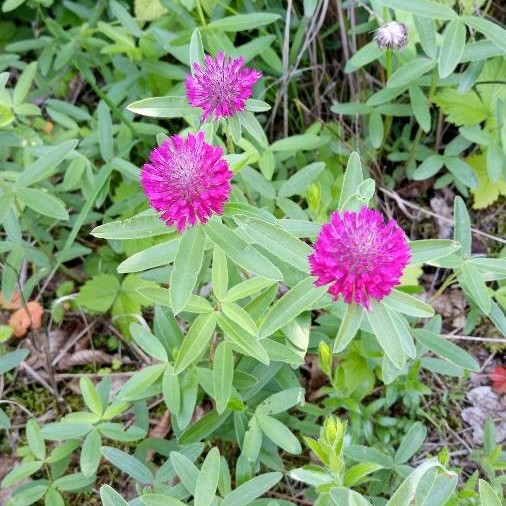obstacle: (147, 42, 410, 396)
